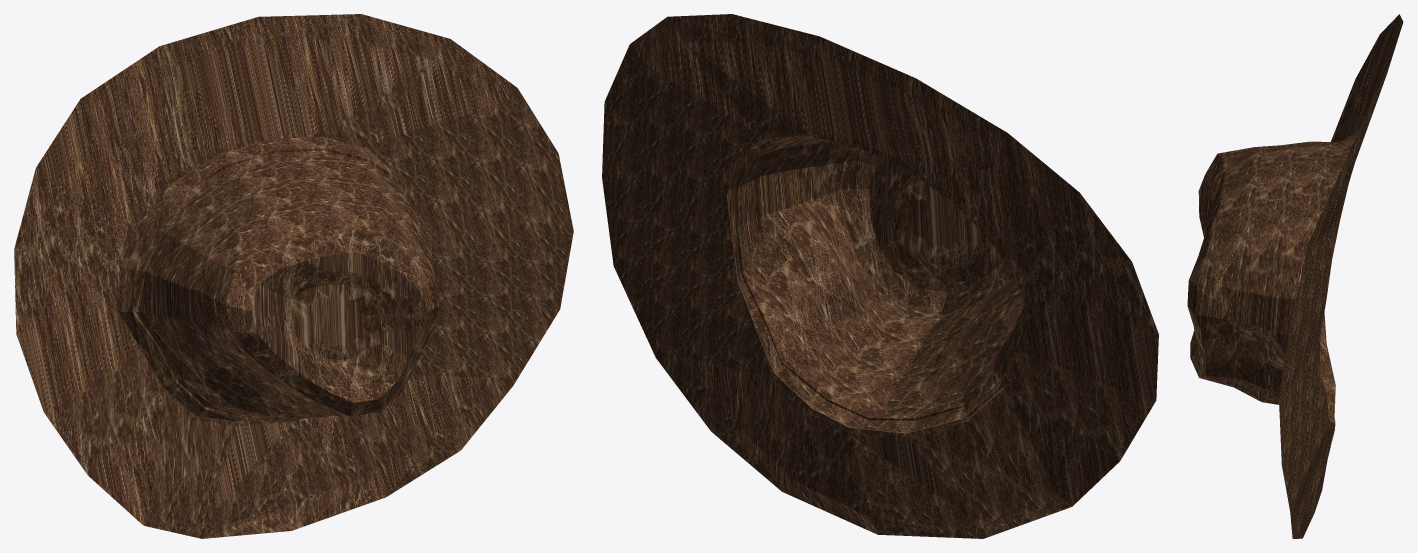
The model's file is cowboy.obj.
The picture shows the model from 3 angles, left to right: view 1: azimuth 30°, elevation 25°; view 2: azimuth 150°, elevation 25°; view 3: azimuth 270°, elevation 25°; orthographic projection. The views are drawn at different scales.
Parts seen in each view (by area): view 1: Object.1; view 2: Object.1; view 3: Object.1.
Part boxes in pixels (<box>): Object.1: <box>14,14,573,538</box>; Object.1: <box>602,14,1158,538</box>; Object.1: <box>1187,14,1403,538</box>.
Bounding box in the file's own units: 58.64 × 50.69 × 21.59.
Materials: 1 (1 with a texture image).
